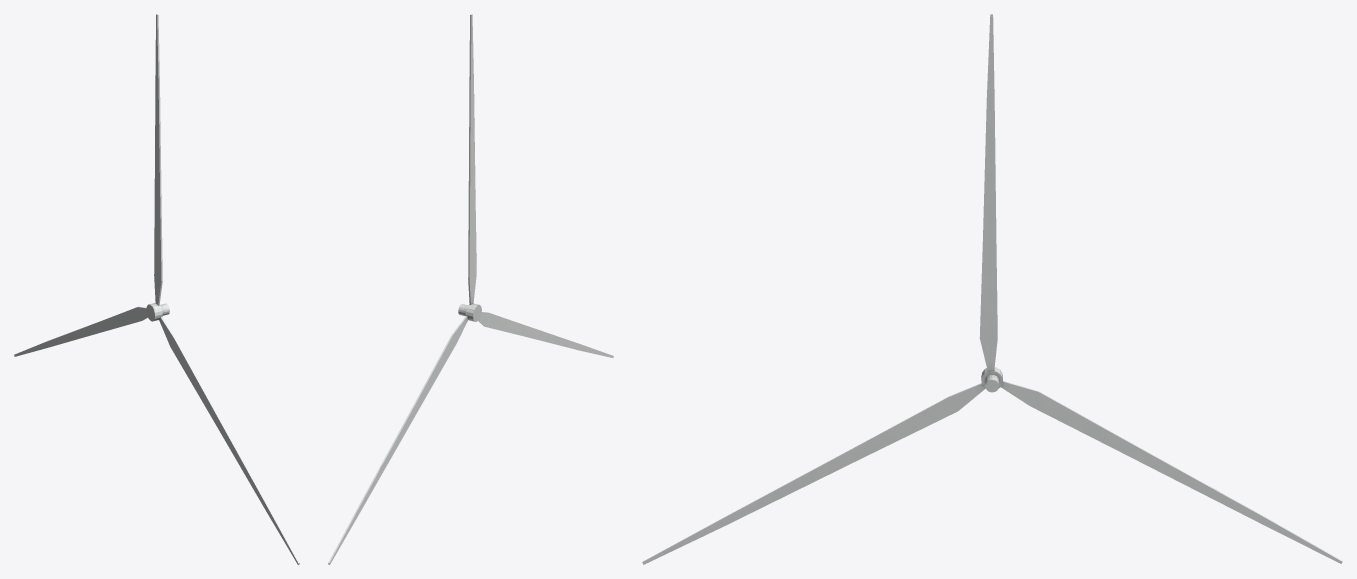
The model's file is wiatrak_wirnik.glb.
3 renders of one model, left to right at view 1: azimuth 30°, elevation 25°; view 2: azimuth 150°, elevation 25°; view 3: azimuth 270°, elevation 25°, orthographic. The views are drawn at different scales.
Parts seen in each view (by area): view 1: wiatrak_wirnik; view 2: wiatrak_wirnik; view 3: wiatrak_wirnik.
Boxes of the visible parts, left/top/right/bottom form: wiatrak_wirnik: left=14, top=14, right=299, bottom=564; wiatrak_wirnik: left=328, top=14, right=613, bottom=564; wiatrak_wirnik: left=642, top=14, right=1342, bottom=564.
Size of the model in its own units: 3 by 78.22 by 90.25.
Materials: 1 (1 with a texture image).
